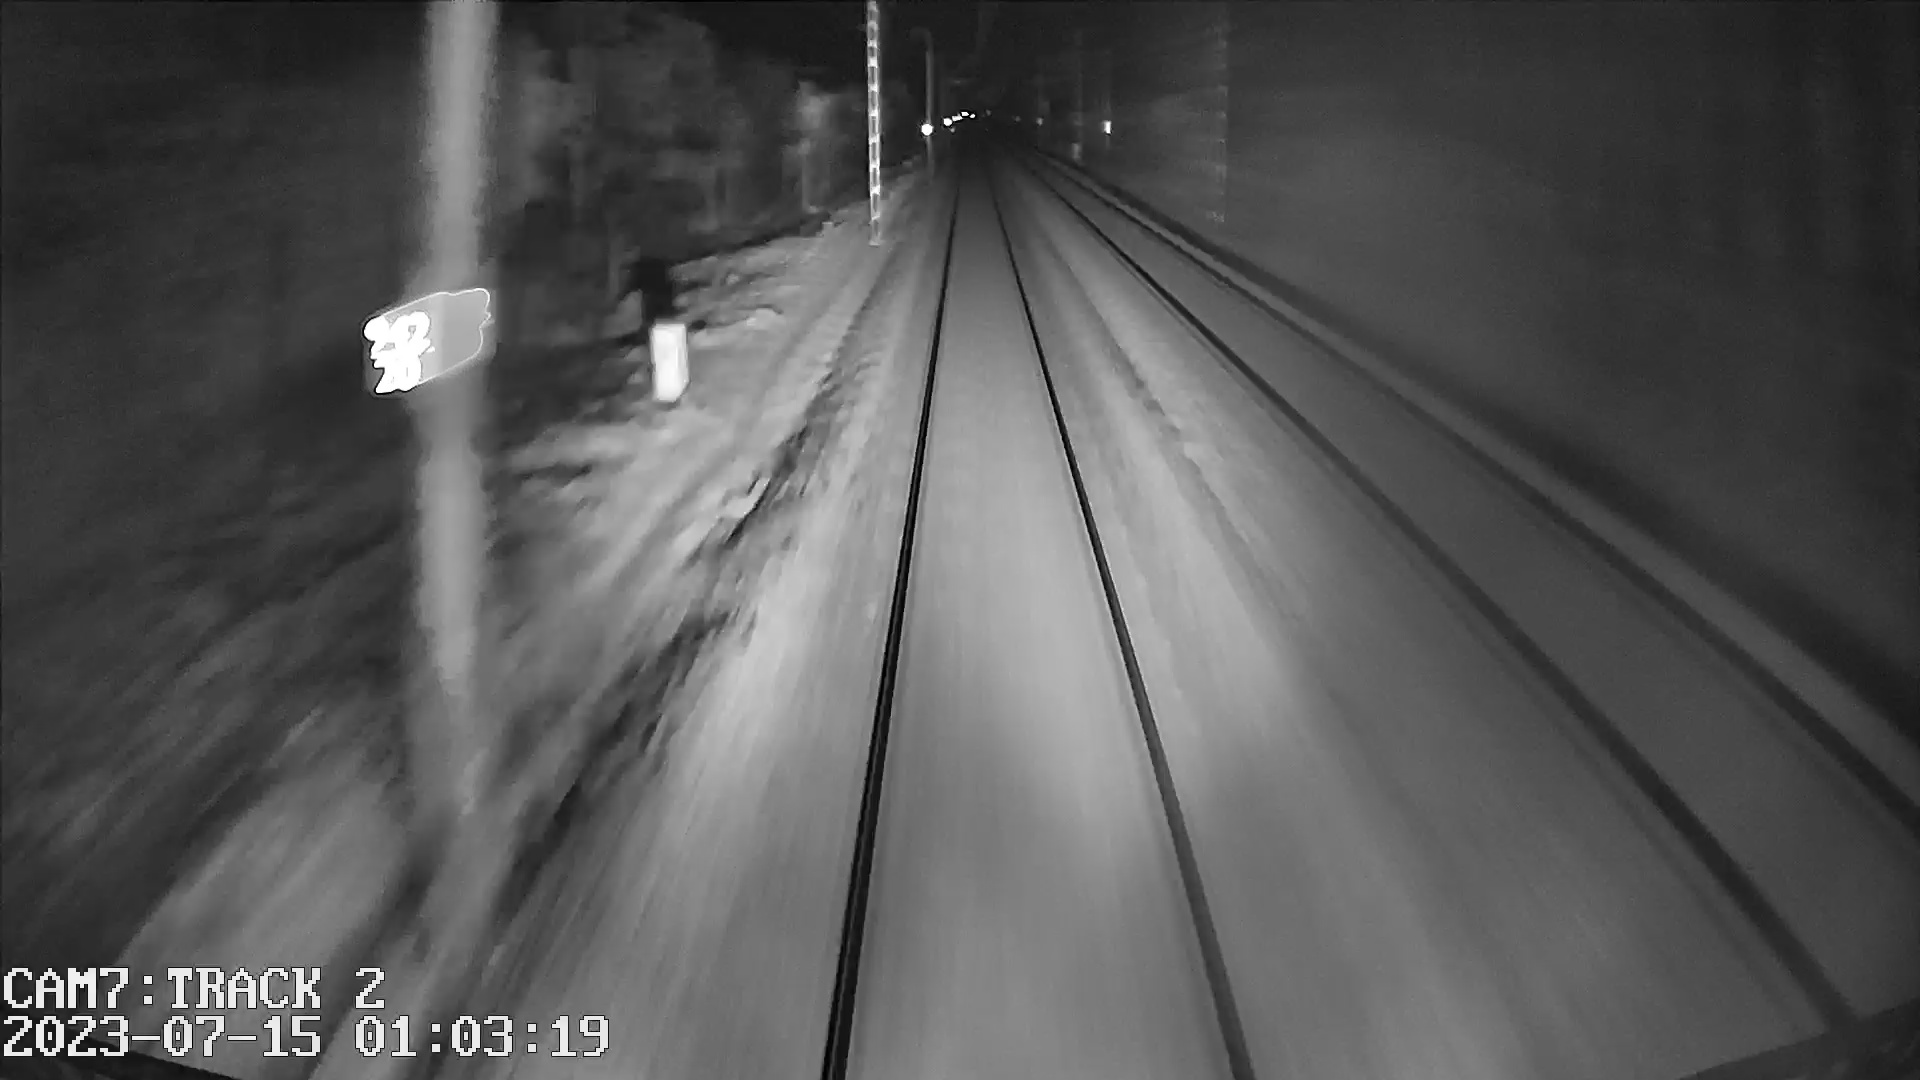track1: (836, 193, 1238, 1056)
track2: (1056, 181, 1902, 951)
